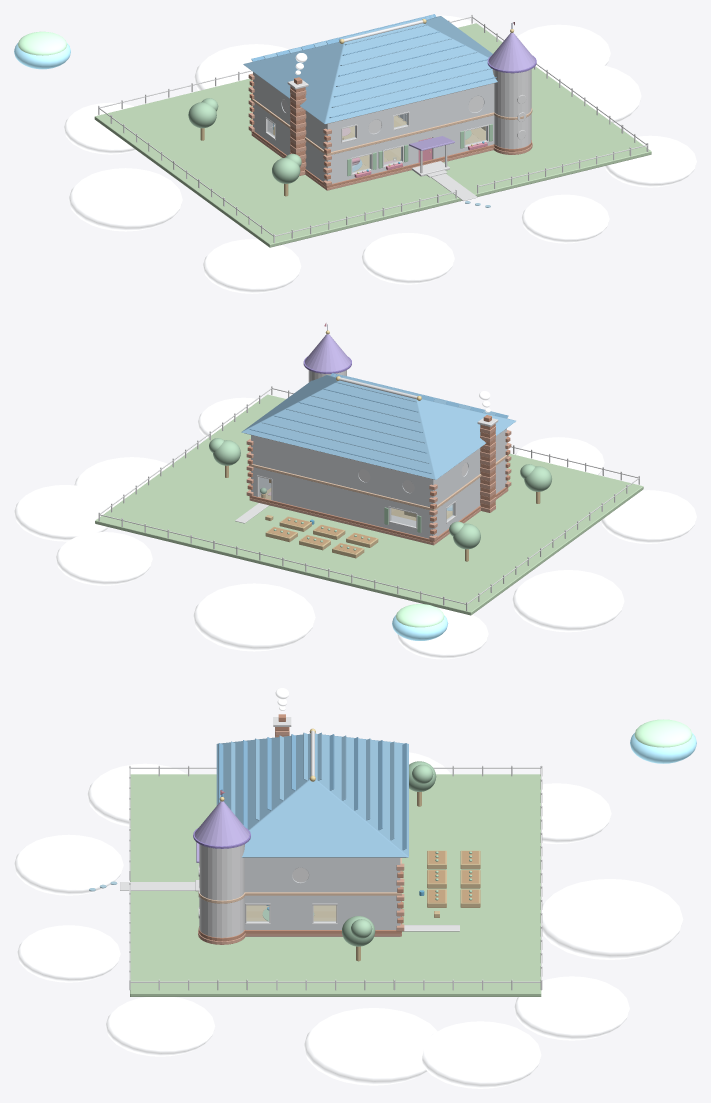
The model's file is metaspace.glb.
The picture shows the model from 3 angles, top to bottom: view 1: azimuth 30°, elevation 25°; view 2: azimuth 150°, elevation 25°; view 3: azimuth 270°, elevation 25°; orthographic projection. The views are drawn at different scales.
Parts seen in each view (by area): view 1: Yard_Grass, House_Roof, House_Wall_S, Outside_Cloud_1, Outside_Cloud_0, Outside_Cloud_8, Outside_Cloud_7, Outside_Cloud_5, Outside_Cloud_6, Outside_Cloud_9, House_Wall_W, House_Tower_Body (+11 smaller); view 2: Yard_Grass, House_Roof, House_Wall_N, Outside_Cloud_3, Outside_Cloud_1, Outside_Cloud_9, Outside_Cloud_4, Outside_Cloud_0, House_Wall_W, Outside_Cloud_5, Outside_Cloud_2, Outside_Cloud_8 (+11 smaller); view 3: Yard_Grass, House_Roof, Outside_Cloud_3, House_Wall_E, Outside_Cloud_5, Outside_Cloud_9, Outside_Cloud_4, Outside_Cloud_6, Outside_Cloud_8, Outside_Cloud_7, House_Tower_Body, Outside_Cloud_2 (+7 smaller).
Part boxes in pixels (<box>): Yard_Grass: <box>94,23,651,247</box>; House_Roof: <box>243,16,497,124</box>; House_Wall_S: <box>326,83,494,183</box>; Outside_Cloud_1: <box>68,168,182,231</box>; Outside_Cloud_0: <box>202,239,301,293</box>; Outside_Cloud_8: <box>361,233,454,284</box>; Outside_Cloud_7: <box>521,194,609,243</box>; Outside_Cloud_5: <box>543,63,641,123</box>; Outside_Cloud_6: <box>605,135,696,187</box>; Outside_Cloud_9: <box>517,24,610,71</box>; House_Wall_W: <box>253,72,329,181</box>; House_Tower_Body: <box>492,69,531,148</box>; Yard_Grass: <box>95,394,643,615</box>; House_Roof: <box>241,375,515,479</box>; House_Wall_N: <box>251,435,433,538</box>; Outside_Cloud_3: <box>193,583,315,651</box>; Outside_Cloud_1: <box>512,570,624,632</box>; Outside_Cloud_9: <box>14,485,114,541</box>; Outside_Cloud_4: <box>55,532,152,585</box>; Outside_Cloud_0: <box>601,490,696,543</box>; House_Wall_W: <box>431,429,505,536</box>; Outside_Cloud_5: <box>74,457,170,506</box>; Outside_Cloud_2: <box>396,608,488,659</box>; Outside_Cloud_8: <box>515,437,604,474</box>; Yard_Grass: <box>130,774,541,996</box>; House_Roof: <box>216,733,408,857</box>; Outside_Cloud_3: <box>542,879,683,959</box>; House_Wall_E: <box>244,858,396,929</box>; Outside_Cloud_5: <box>303,1008,437,1085</box>; Outside_Cloud_9: <box>422,1021,541,1088</box>; Outside_Cloud_4: <box>514,976,629,1040</box>; Outside_Cloud_6: <box>105,997,215,1056</box>; Outside_Cloud_8: <box>14,834,123,895</box>; Outside_Cloud_7: <box>17,925,120,982</box>; House_Tower_Body: <box>199,844,244,937</box>; Outside_Cloud_2: <box>542,783,611,844</box>.
Bounding box in the file's own units: 50.4 × 15.15 × 44.8.
